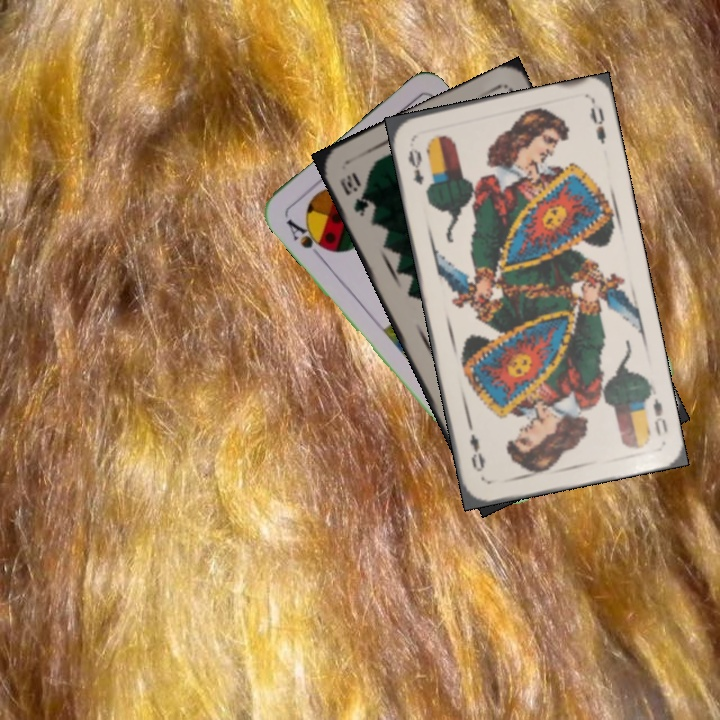EO: (404, 143, 427, 188), (649, 394, 671, 439)
G10: (335, 168, 372, 219)
SA: (282, 214, 332, 262)
